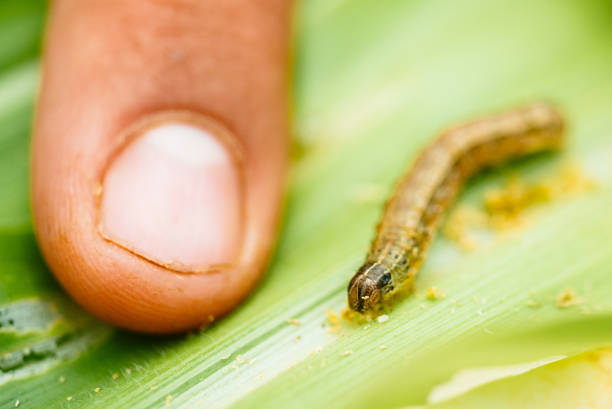Armyworm: (314, 71, 571, 324)
